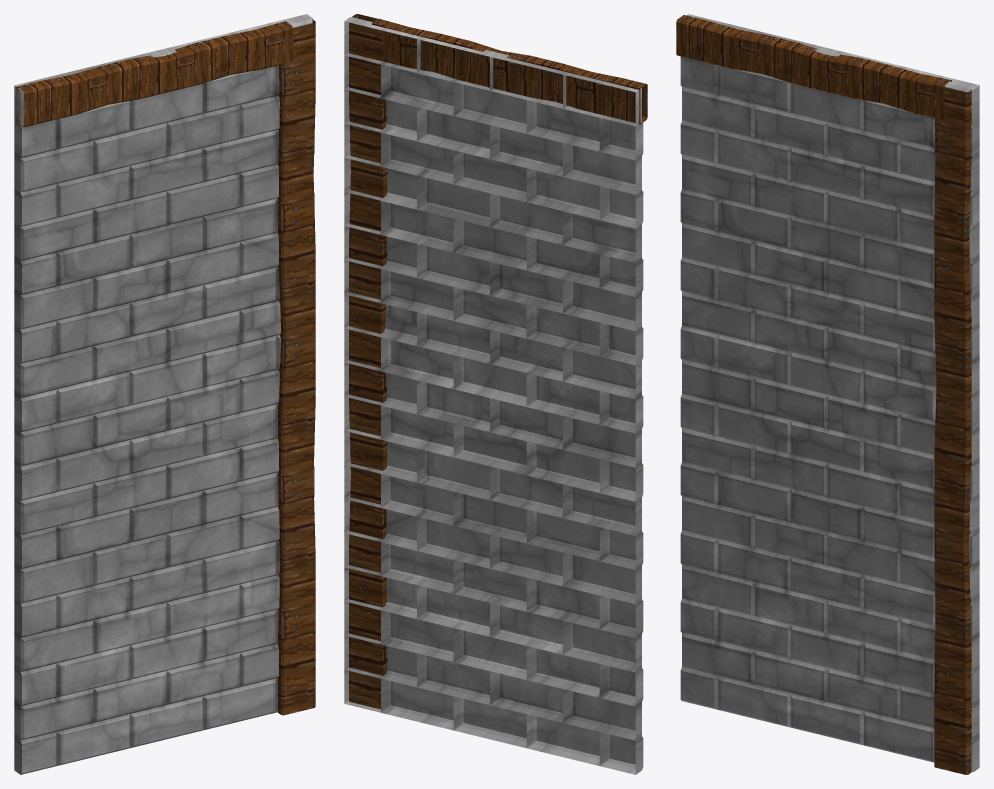
The model's file is Parede 3.fbx.
3 renders of one model, left to right at view 1: azimuth 30°, elevation 25°; view 2: azimuth 150°, elevation 25°; view 3: azimuth 330°, elevation 25°, orthographic.
Visible parts, largest first — view 1: Parede.002; view 2: Parede.002; view 3: Parede.002.
Part boxes in pixels (box(x1,y1,x2,y2)): Parede.002: box(14, 14, 315, 774); Parede.002: box(344, 14, 647, 774); Parede.002: box(676, 14, 979, 774).
Size of the model in its own units: 746 by 1667 by 48.57.
1 material, 1 textured.
